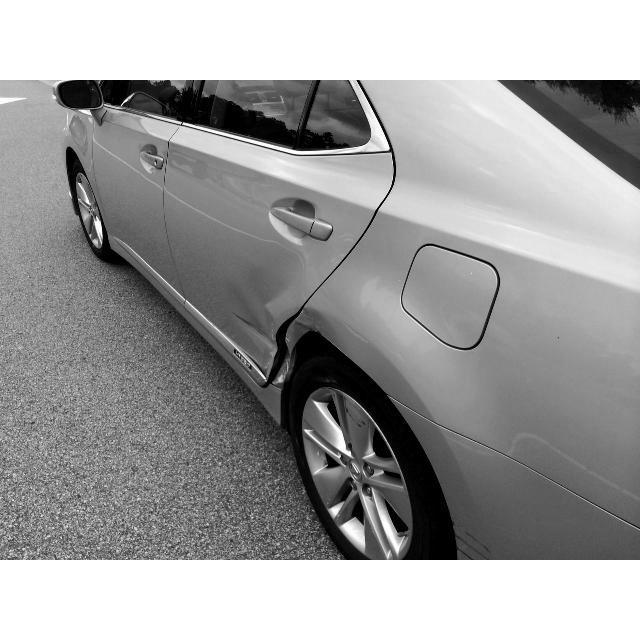doorouter-dent: (173, 132, 337, 400)
quaterpanel-dent: (391, 349, 588, 560)
